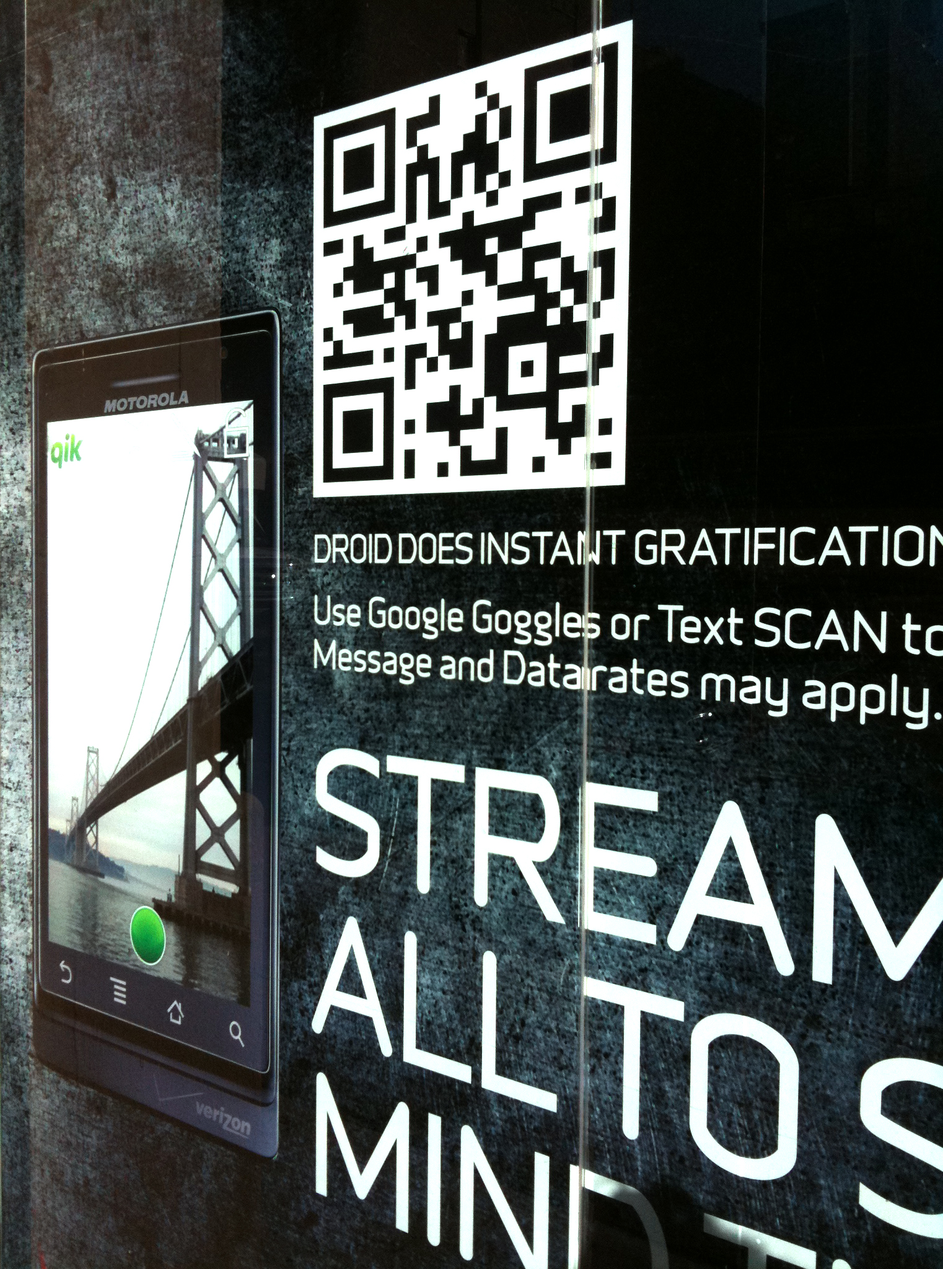QR-CODE: (323, 42, 617, 481)
